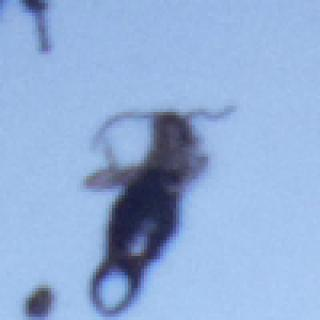earwig: (79, 103, 241, 320)
